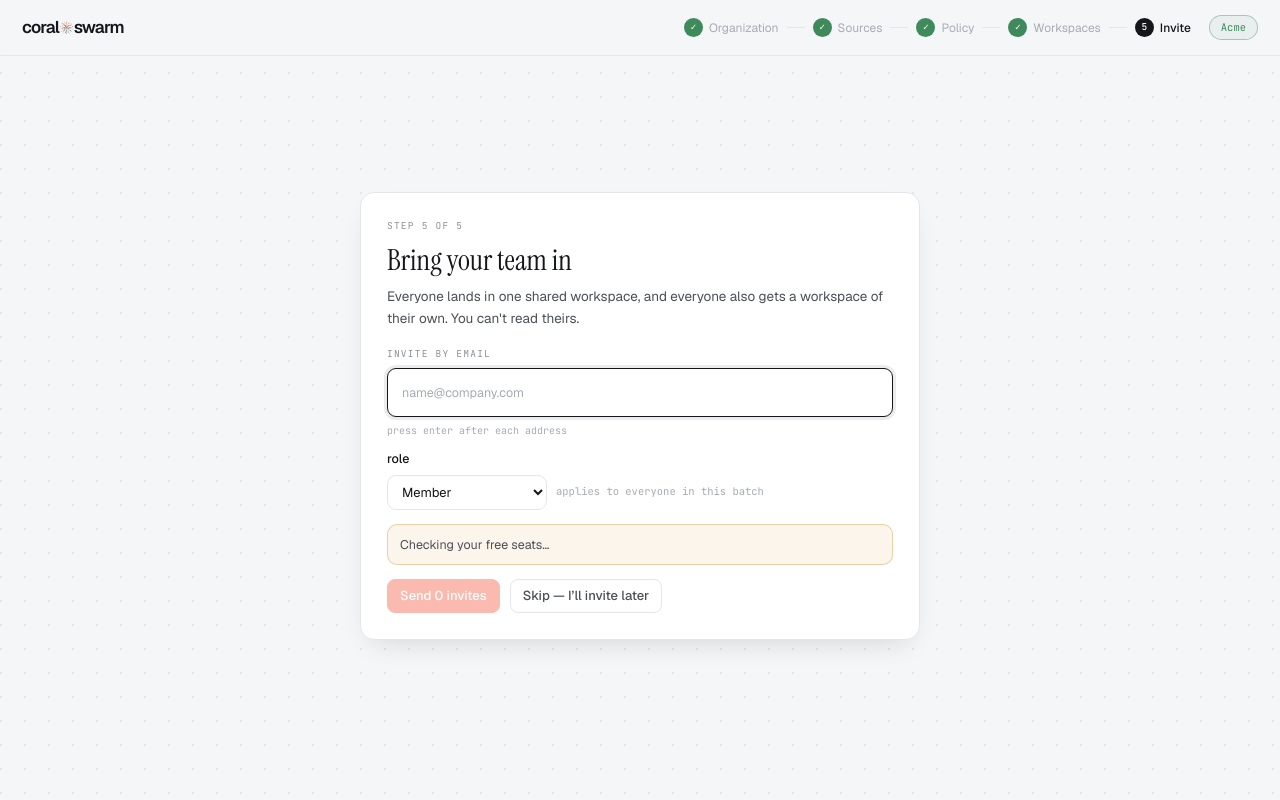
Test: onboarding invite step › shows a per-address error, keeps going, and lets the admin retry what failed
The width and height of the screenshot is (1280, 800).
Type "a@acme.com" into the field labelled "invite by email" at point(640, 393), box 400,380 -> 880,405
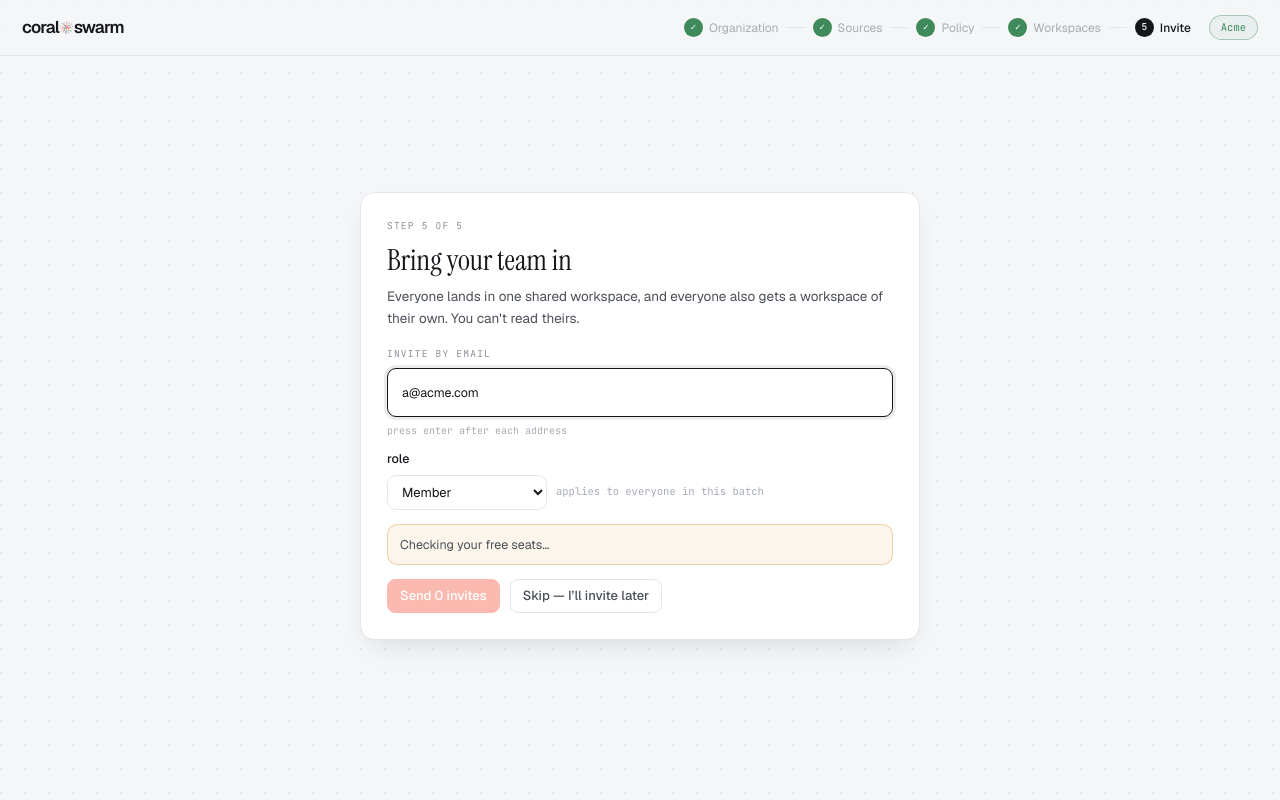
Press Enter in the field labelled "invite by email", box 400,380 -> 880,405
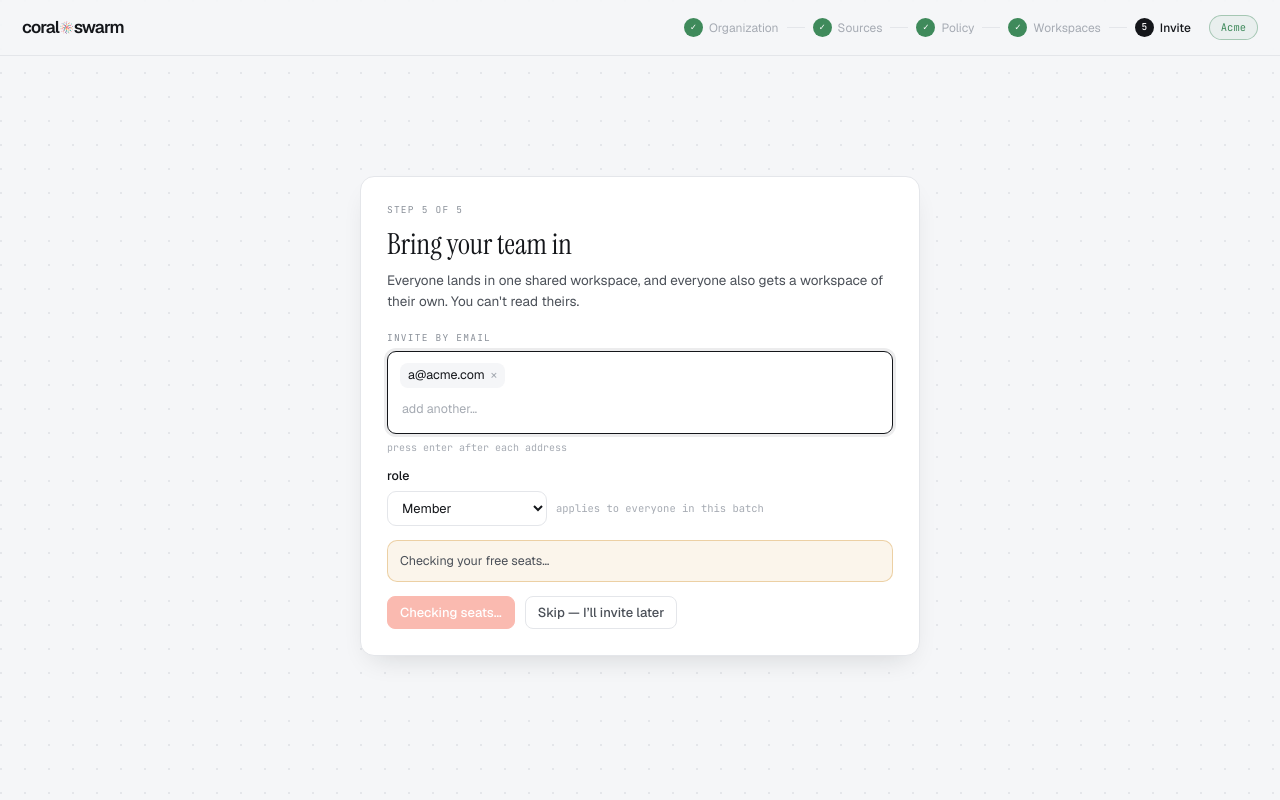
Type "b@acme.com" into the field labelled "invite by email" at point(640, 409), box 400,397 -> 880,422
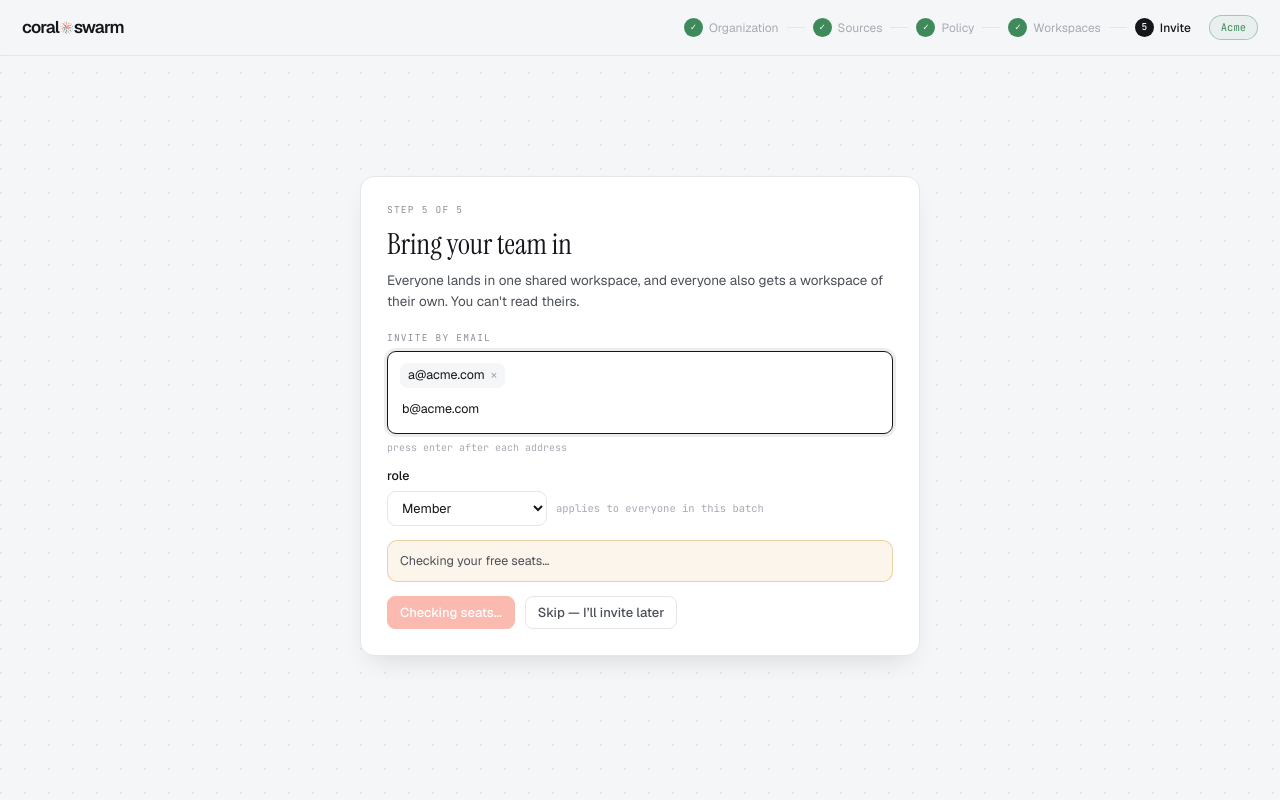
Press Enter in the field labelled "invite by email", box 400,397 -> 880,422
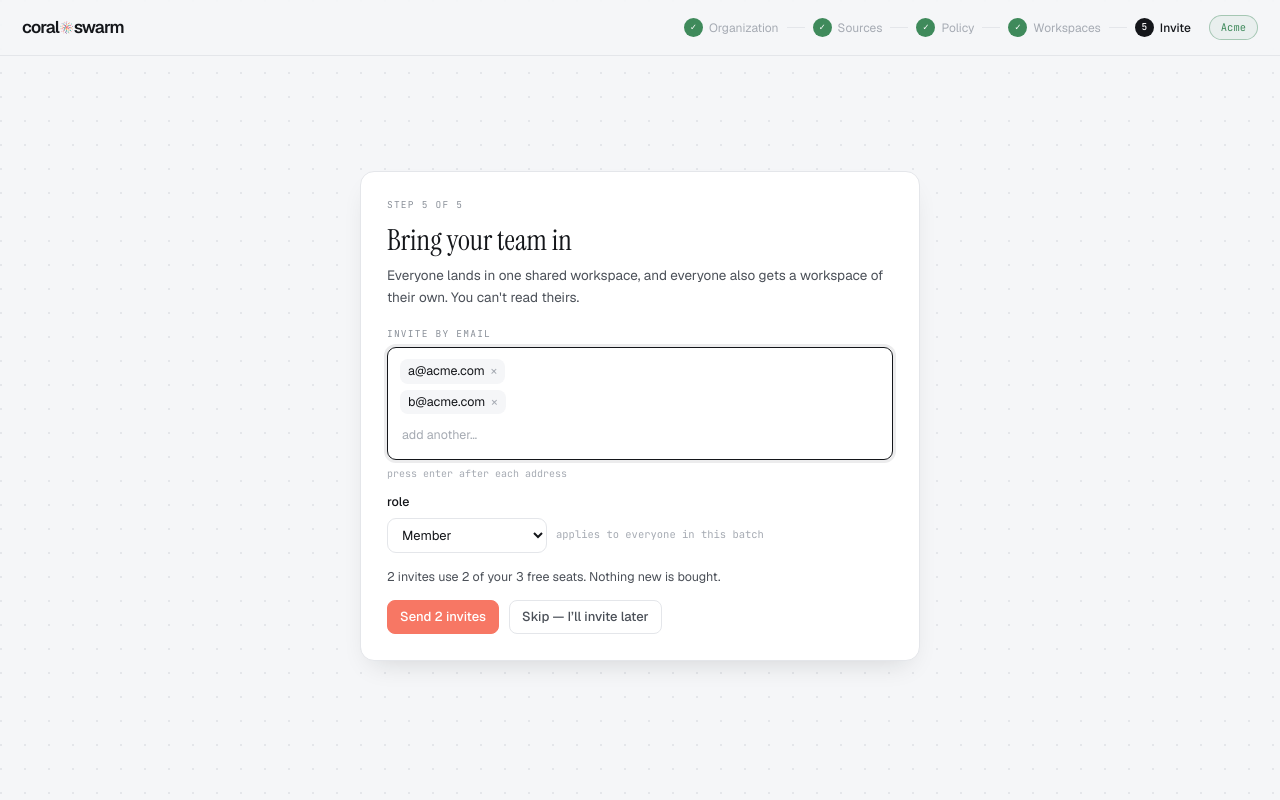
Click the button "Send 2 invites" at point(443, 617), box 387,600 -> 499,634
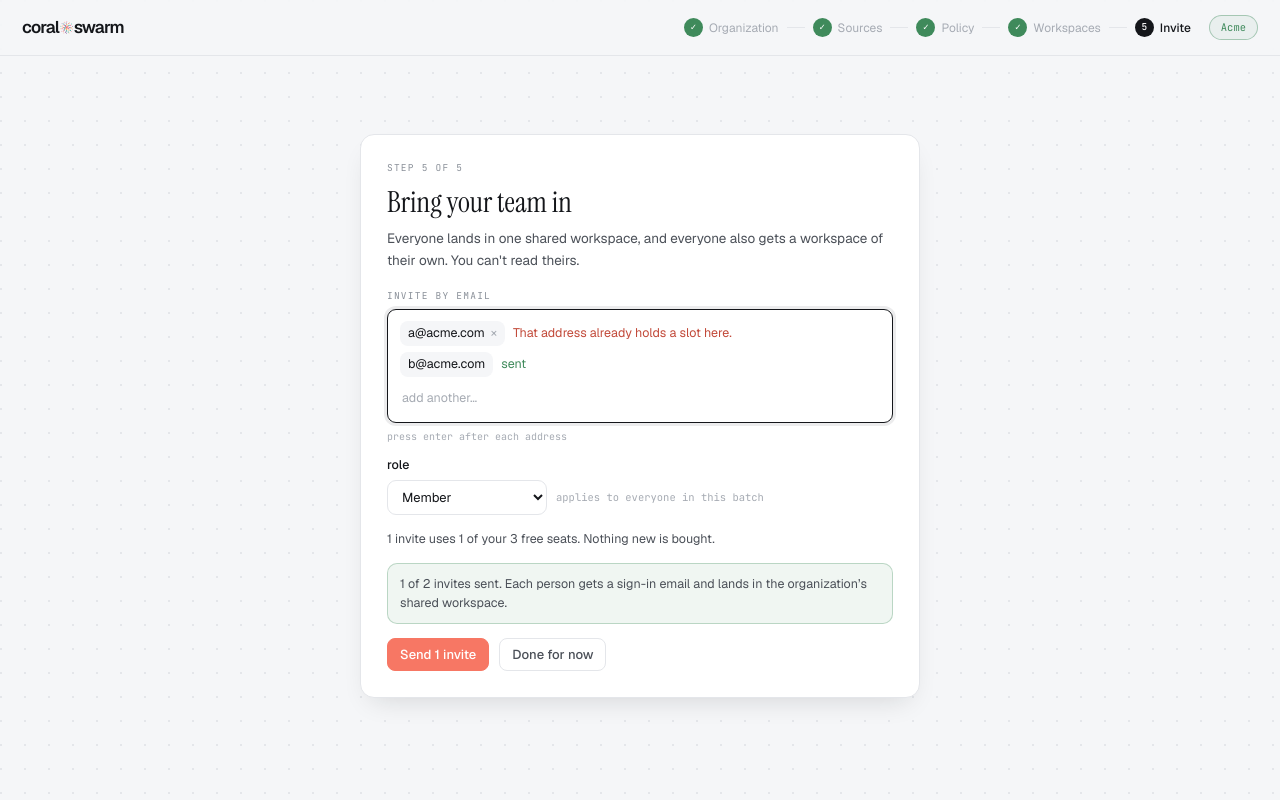
expect the text "That address already holds a slot here." is shown: met, box 513,324 -> 732,343
expect the text "1 of 2 invites sent" is shown: met, box 400,575 -> 502,592
